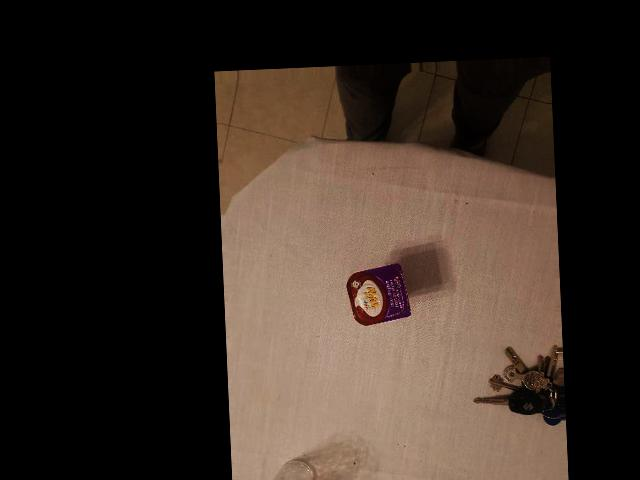milky: (305, 322, 376, 397)
